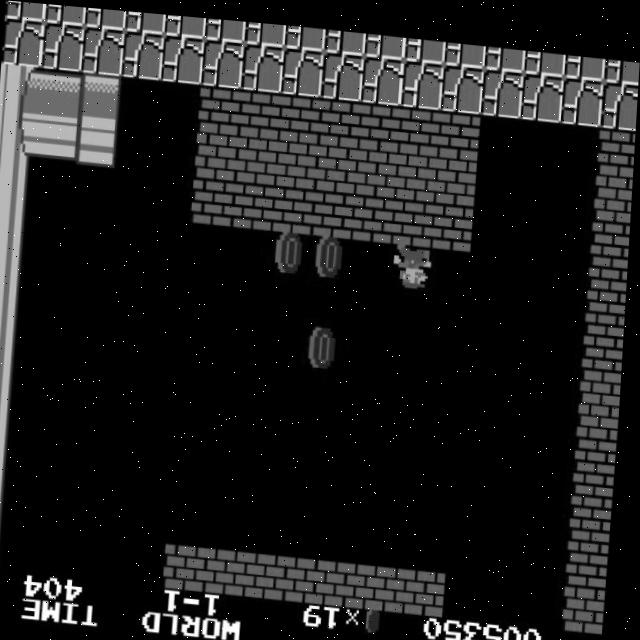1- brick_block: (434, 147, 479, 197), (394, 144, 439, 194), (328, 551, 373, 601), (354, 140, 399, 190), (248, 544, 293, 594), (208, 540, 253, 590), (168, 537, 213, 587), (288, 548, 333, 597), (577, 435, 621, 485), (408, 558, 452, 608), (438, 101, 482, 151), (368, 554, 412, 604), (398, 98, 442, 148), (358, 94, 402, 144), (318, 91, 362, 141), (275, 133, 319, 183), (278, 87, 322, 137), (235, 129, 279, 179), (238, 84, 282, 134), (195, 126, 239, 176), (198, 81, 242, 131), (574, 481, 618, 530), (432, 193, 476, 242), (392, 190, 436, 239), (352, 186, 396, 235), (312, 183, 356, 232), (315, 137, 359, 186), (272, 179, 316, 228), (232, 176, 276, 225), (192, 173, 236, 222), (569, 572, 612, 622), (580, 389, 623, 439), (572, 527, 615, 576), (583, 344, 626, 393), (586, 298, 628, 348), (589, 252, 630, 302), (597, 116, 637, 166), (592, 208, 632, 257), (594, 162, 634, 211)
11- little_mario: (394, 233, 440, 285)
14- pipe: (35, 112, 79, 162), (38, 67, 82, 116), (0, 64, 43, 114), (0, 110, 39, 159), (0, 156, 37, 205), (0, 201, 34, 251), (0, 247, 31, 296), (0, 292, 27, 341), (0, 337, 24, 387), (0, 383, 22, 433), (0, 429, 19, 478), (0, 475, 16, 524), (0, 520, 13, 570)
15- pipe_head: (75, 115, 119, 165), (78, 70, 122, 120)
17- undestructible_block: (1, 18, 46, 68), (561, 66, 605, 116), (521, 63, 565, 113), (481, 59, 525, 109), (401, 52, 445, 102), (361, 48, 405, 98), (321, 45, 365, 95), (281, 41, 325, 91), (241, 38, 285, 88), (201, 35, 245, 85), (161, 31, 205, 81), (121, 28, 165, 78), (81, 24, 125, 74), (41, 21, 85, 71), (441, 56, 485, 105), (601, 70, 639, 120), (524, 40, 566, 67), (484, 36, 526, 63), (444, 33, 486, 60), (404, 30, 446, 57), (364, 26, 406, 53), (324, 23, 366, 50), (564, 44, 606, 70), (284, 20, 326, 46), (244, 17, 286, 42), (204, 14, 246, 39), (164, 12, 206, 35), (124, 9, 166, 32), (604, 48, 640, 74), (84, 6, 126, 28), (44, 3, 86, 25), (4, 0, 46, 21)
2- coin: (303, 319, 347, 369), (309, 228, 353, 278), (269, 224, 313, 274)
